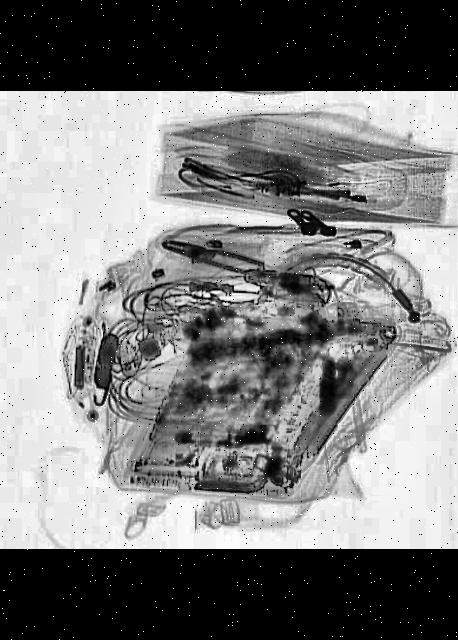Pliers: (159, 232, 267, 282)
